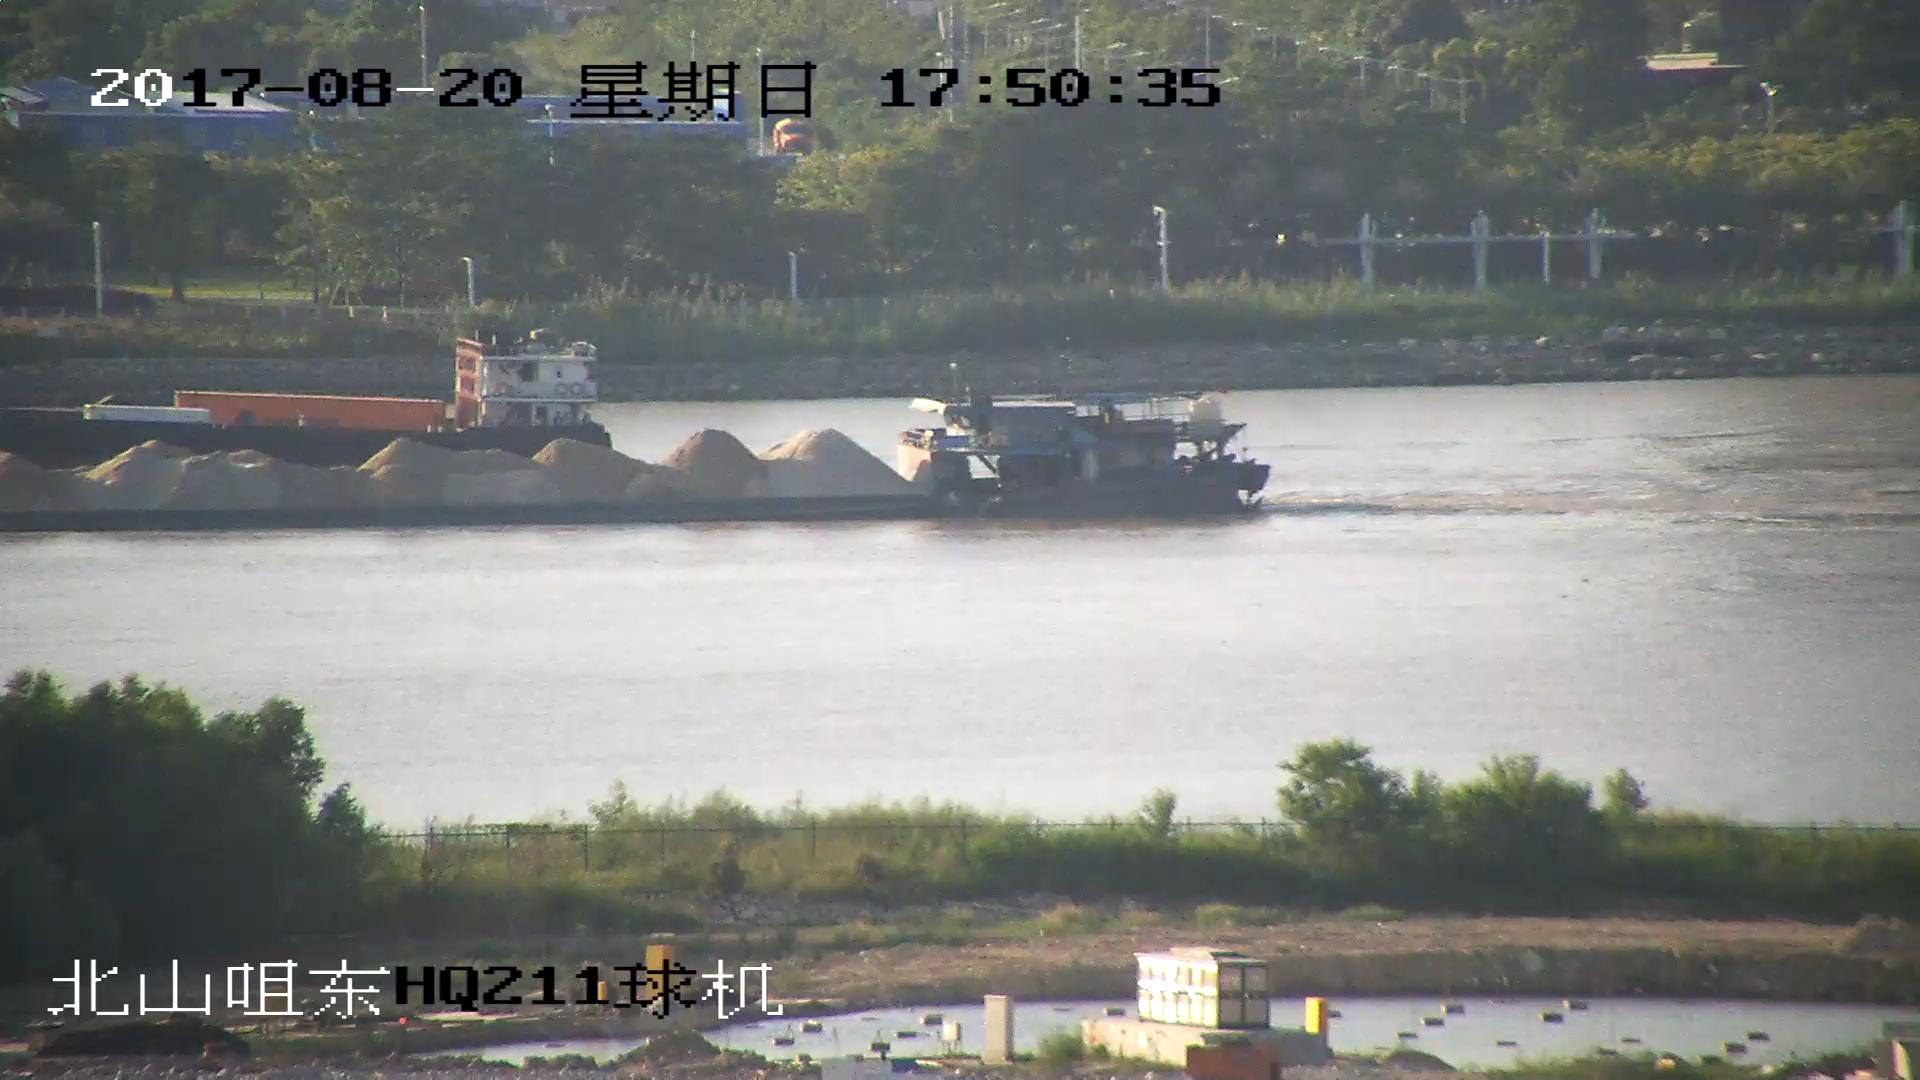general cargo ship: (1, 321, 627, 488)
ore carrier: (1, 373, 1268, 533)
